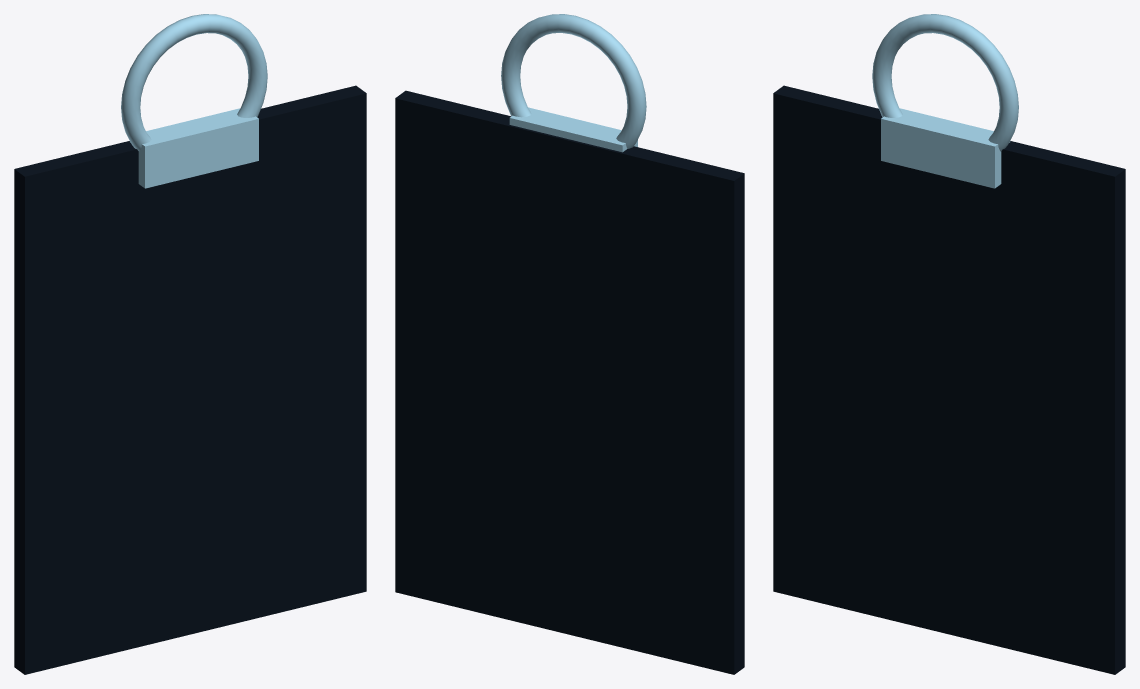
Rendered from card.glb.
3 views of the same model, side by side, from view 1: azimuth 30°, elevation 25°; view 2: azimuth 150°, elevation 25°; view 3: azimuth 330°, elevation 25° (orthographic).
Parts seen in each view (by area): view 1: card, clamp, clip; view 2: card, clip, clamp; view 3: card, clamp, clip.
Boxes of the visible parts, x1=… form: card: x1=14, y1=85, x2=366, y2=674; clamp: x1=129, y1=108, x2=258, y2=188; clip: x1=121, y1=14, x2=267, y2=151; card: x1=395, y1=90, x2=744, y2=674; clip: x1=501, y1=14, x2=646, y2=148; clamp: x1=509, y1=107, x2=637, y2=152; card: x1=773, y1=85, x2=1125, y2=674; clamp: x1=881, y1=108, x2=1010, y2=188; clip: x1=872, y1=14, x2=1018, y2=151.
Bounding box in the file's own units: 1.02 × 1.75 × 0.0875.
